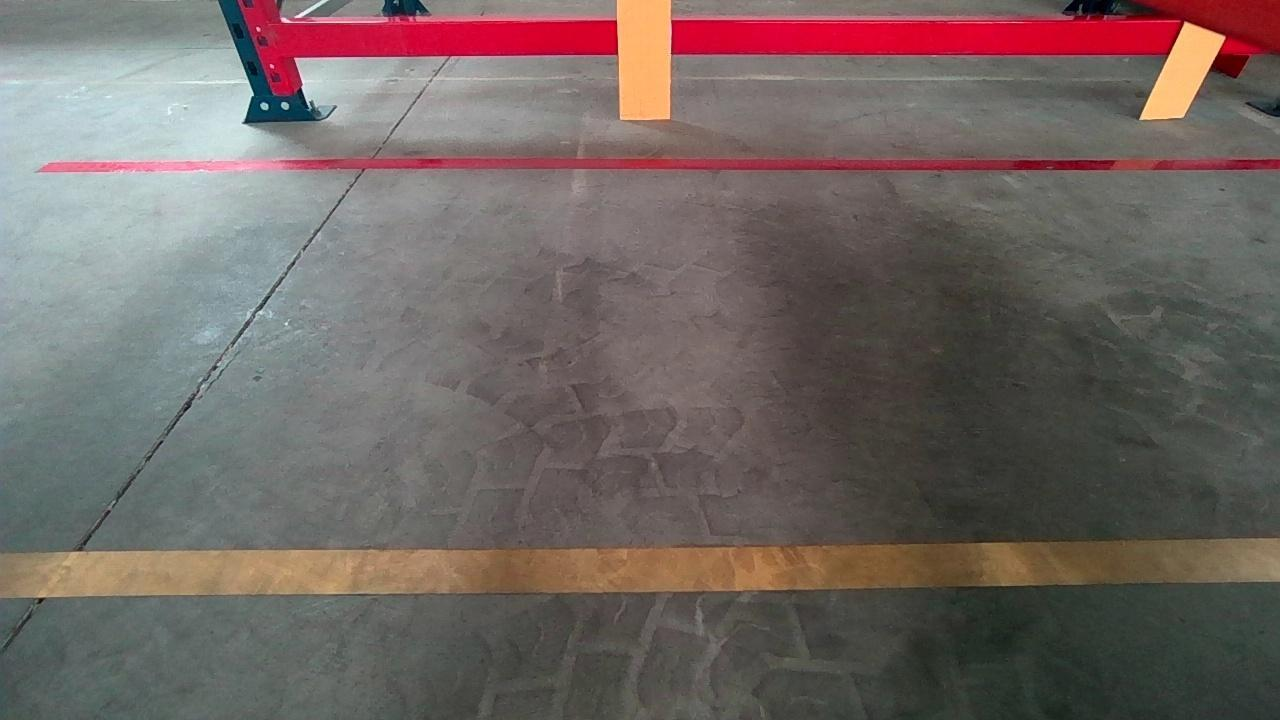h_rack: (280, 20, 1272, 56)
orange_strip: (1140, 19, 1229, 116), (618, 1, 672, 118)
red_line: (26, 160, 1280, 174)
yellow_line: (0, 535, 1275, 599)
